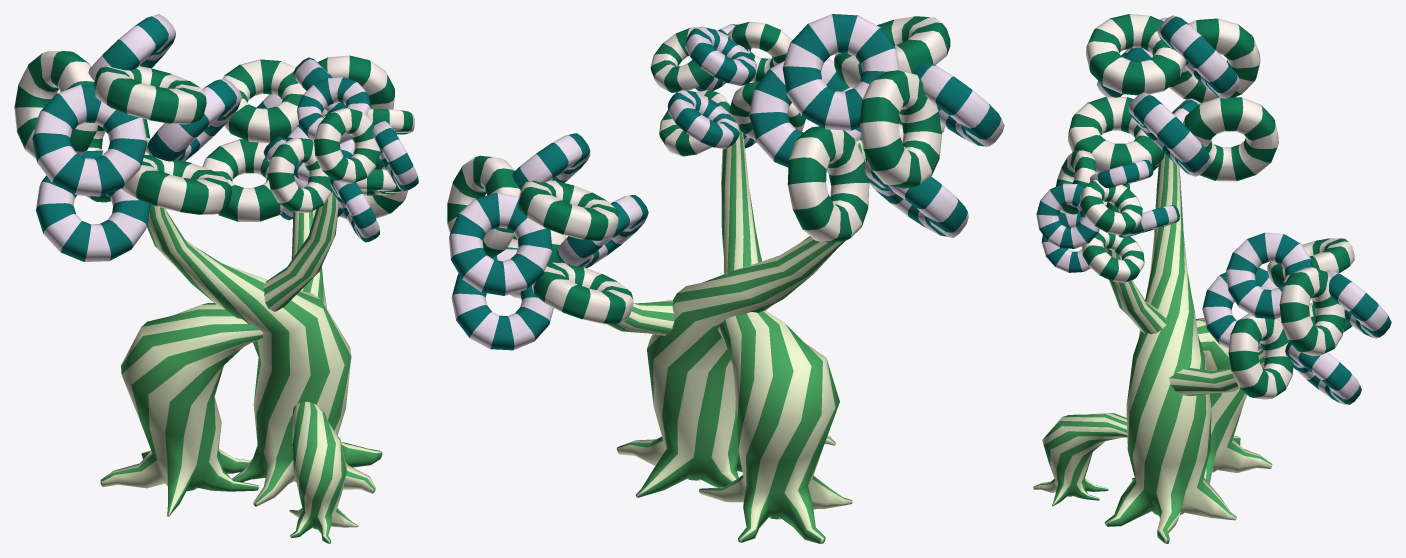
File: cw_tree_16.fbx
The picture shows the model from 3 angles, left to right: view 1: azimuth 30°, elevation 25°; view 2: azimuth 150°, elevation 25°; view 3: azimuth 270°, elevation 25°; orthographic projection. The views are drawn at different scales.
Visible parts, largest first — view 1: cw_t_16; view 2: cw_t_16; view 3: cw_t_16.
Part boxes in pixels (x1=…): cw_t_16: x1=14, y1=14, x2=418, y2=543; cw_t_16: x1=447, y1=14, x2=1004, y2=543; cw_t_16: x1=1033, y1=14, x2=1391, y2=543.
Bounding box in the file's own units: 203 × 212 × 161.
